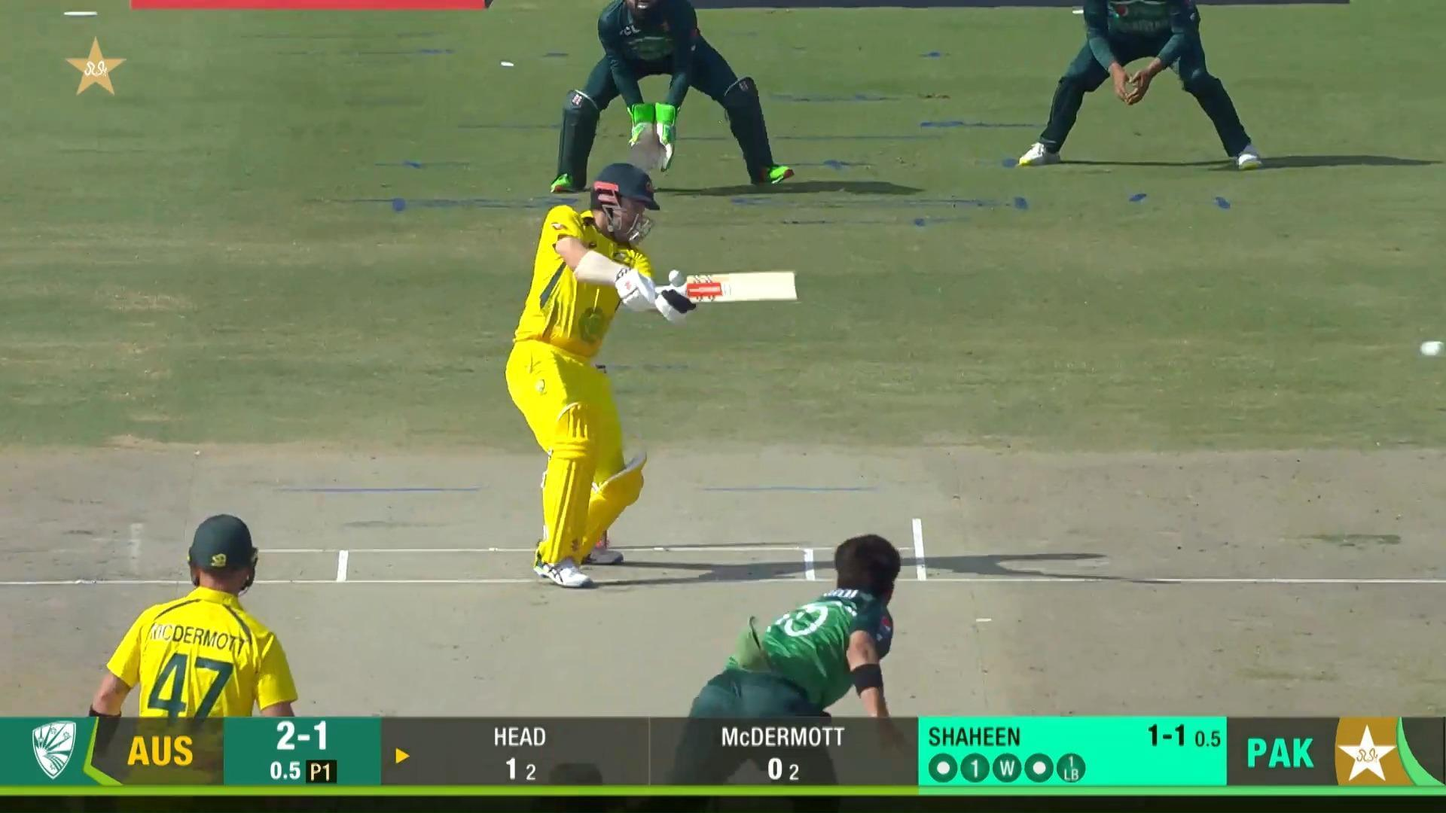BM 1: (506, 162, 799, 590)
BO: (655, 534, 916, 813)
